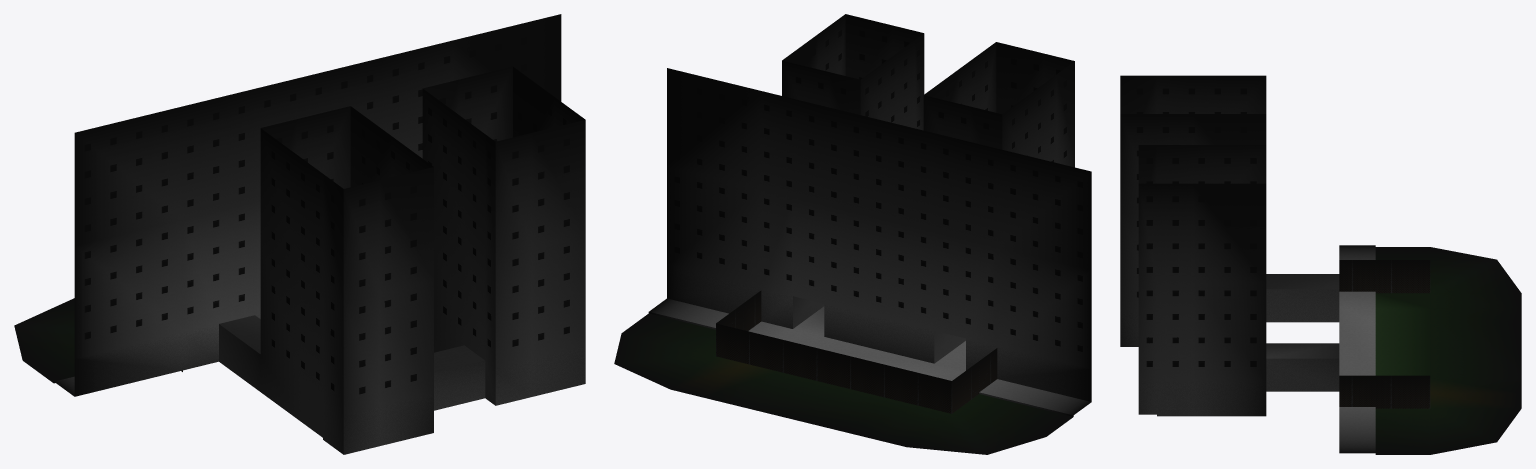
File: blocs.glb
The picture shows the model from 3 angles, left to right: view 1: azimuth 30°, elevation 25°; view 2: azimuth 150°, elevation 25°; view 3: azimuth 270°, elevation 25°; orthographic projection. The views are drawn at different scales.
Parts seen in each view (by area): view 1: Plane; view 2: Plane; view 3: Plane.
Part boxes in pixels (x1=…): Plane: x1=14, y1=14, x2=585, y2=454; Plane: x1=614, y1=14, x2=1091, y2=454; Plane: x1=1120, y1=75, x2=1521, y2=454.
Bounding box in the file's own units: 270 × 141 × 220.
3 materials, 3 textured.
